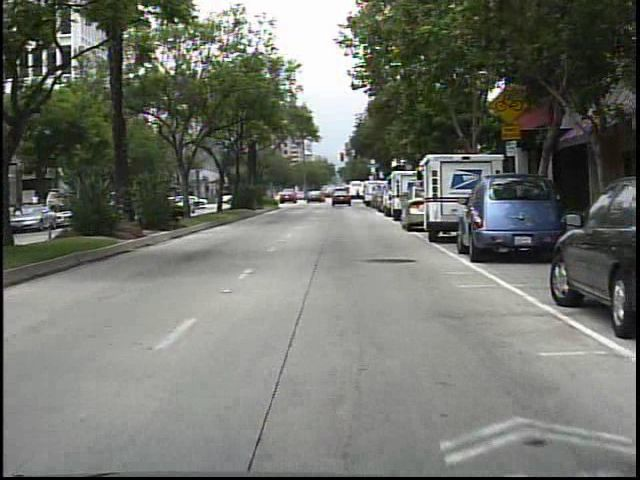person: (355, 183, 363, 204)
